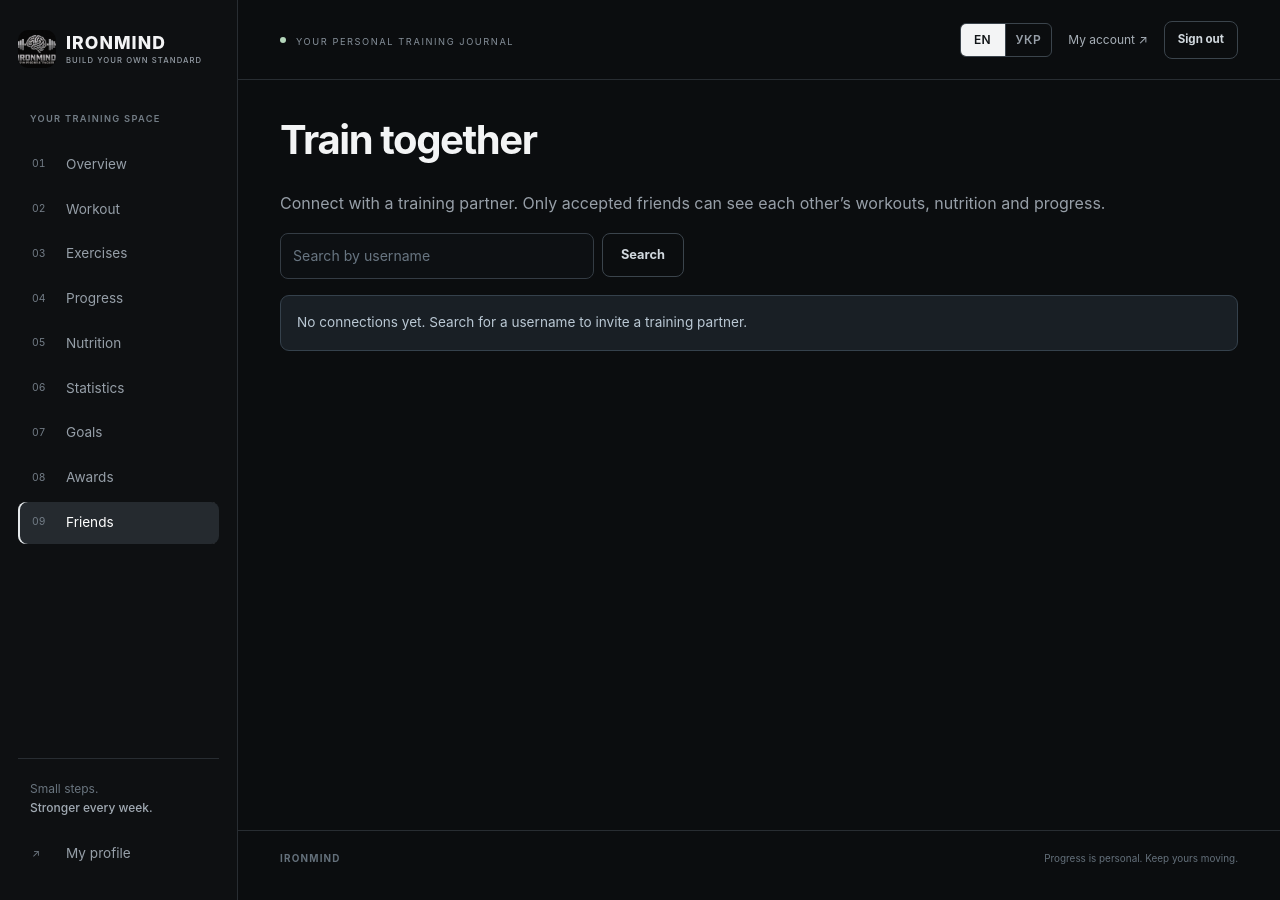
friends › says when a search finds nobody
Type "ghost" into the field labelled "username" at (437, 256), box 280,233 -> 594,279
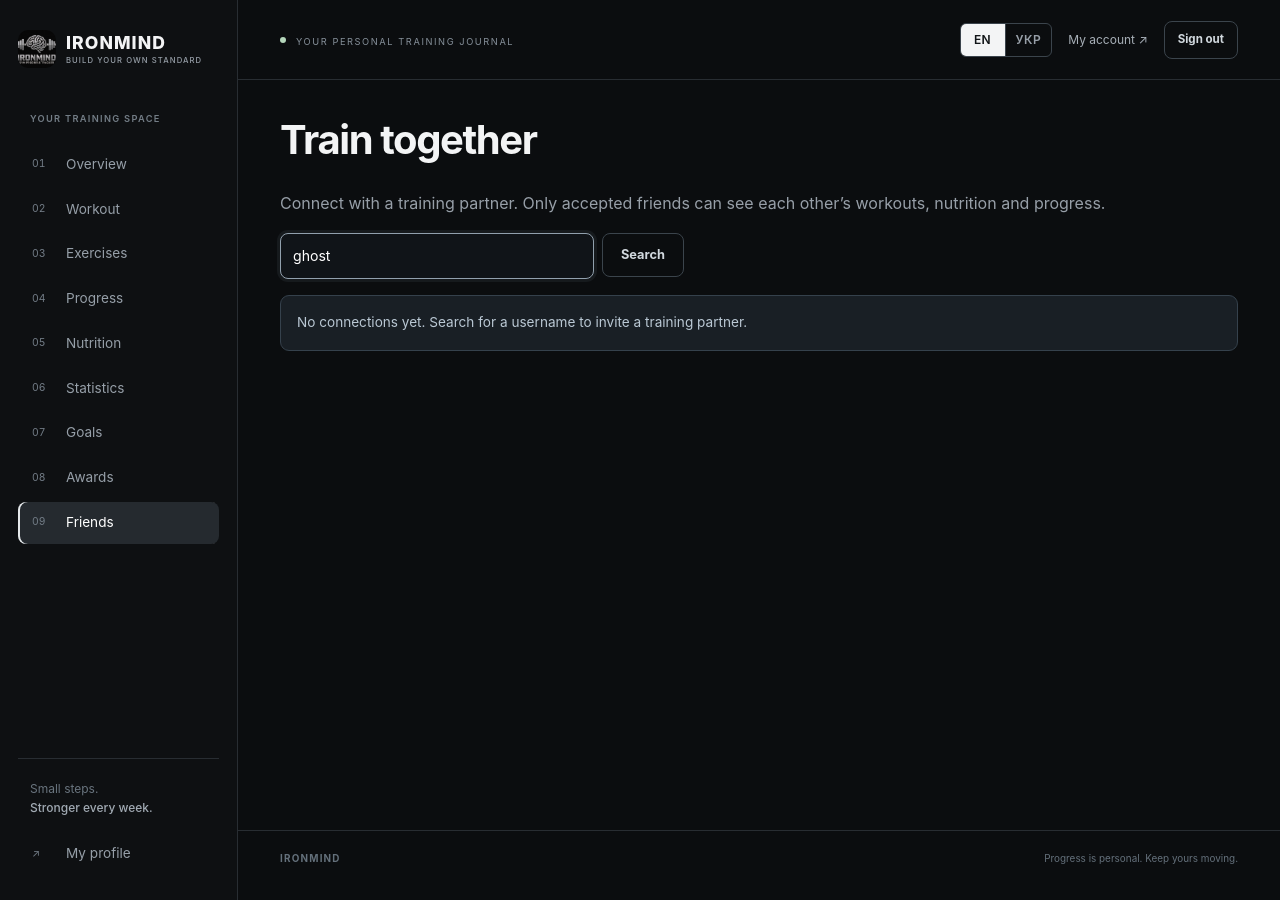
Click the button "Search" at (643, 255), box 602,233 -> 684,277
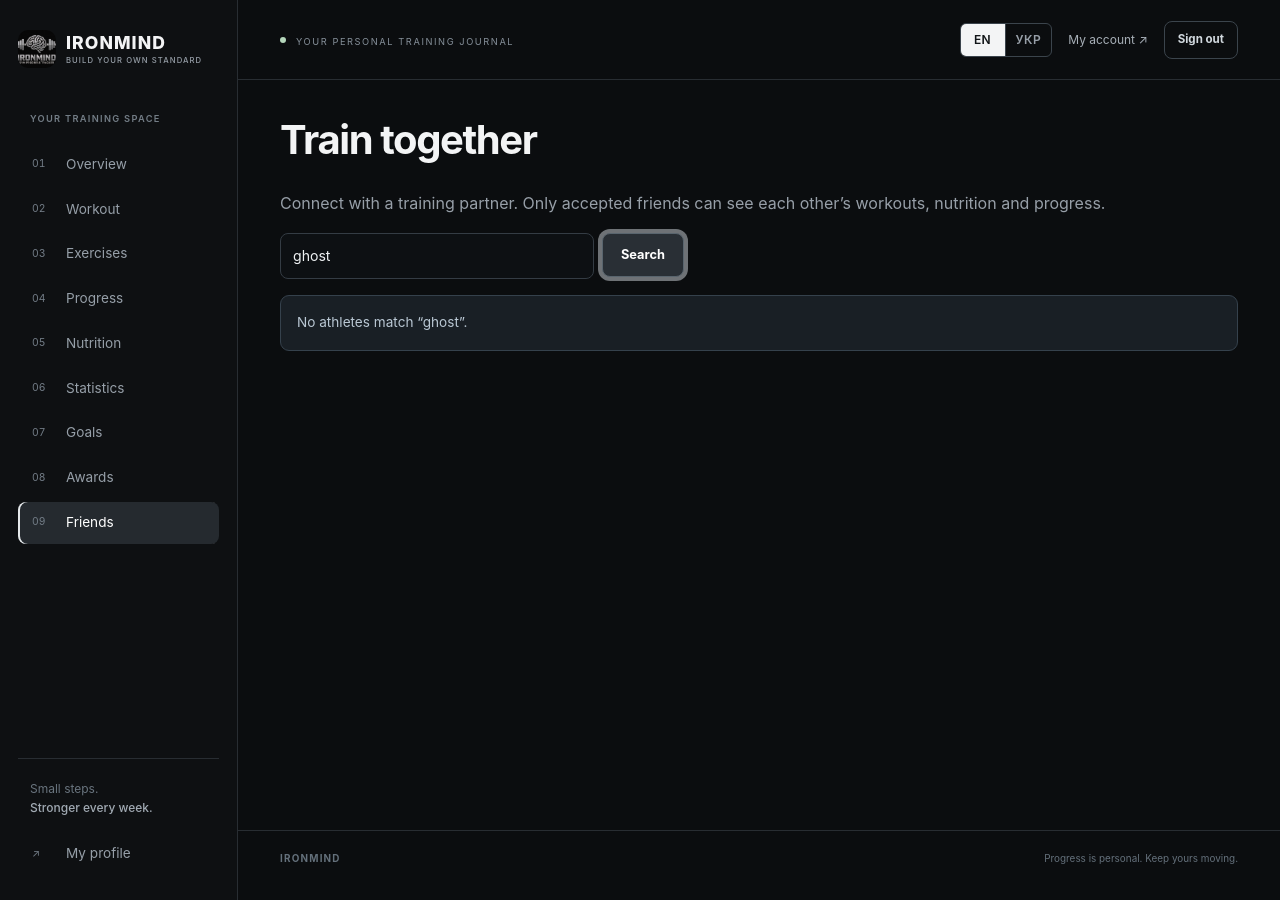
Result: the text "No athletes match “ghost”." is shown at 280,295 -> 1238,351
